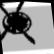not correct: (0, 0, 39, 50)
